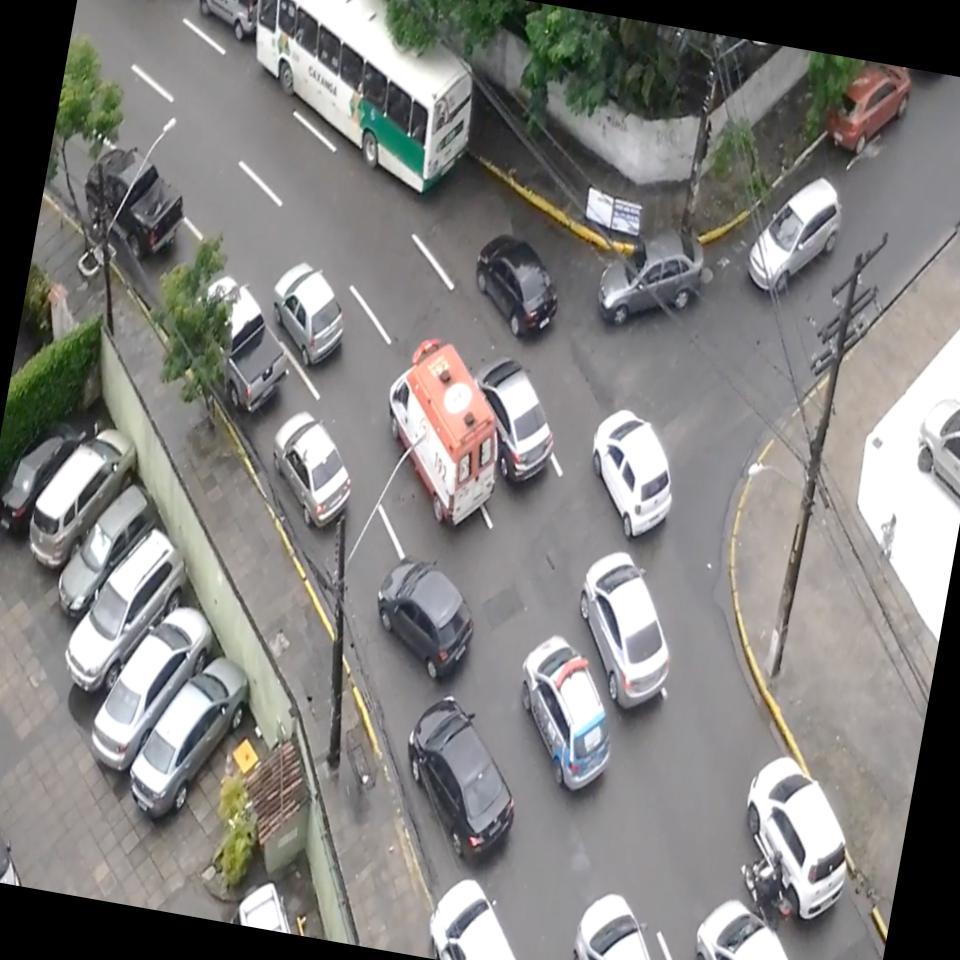bombeiro: (367, 330, 520, 538)
